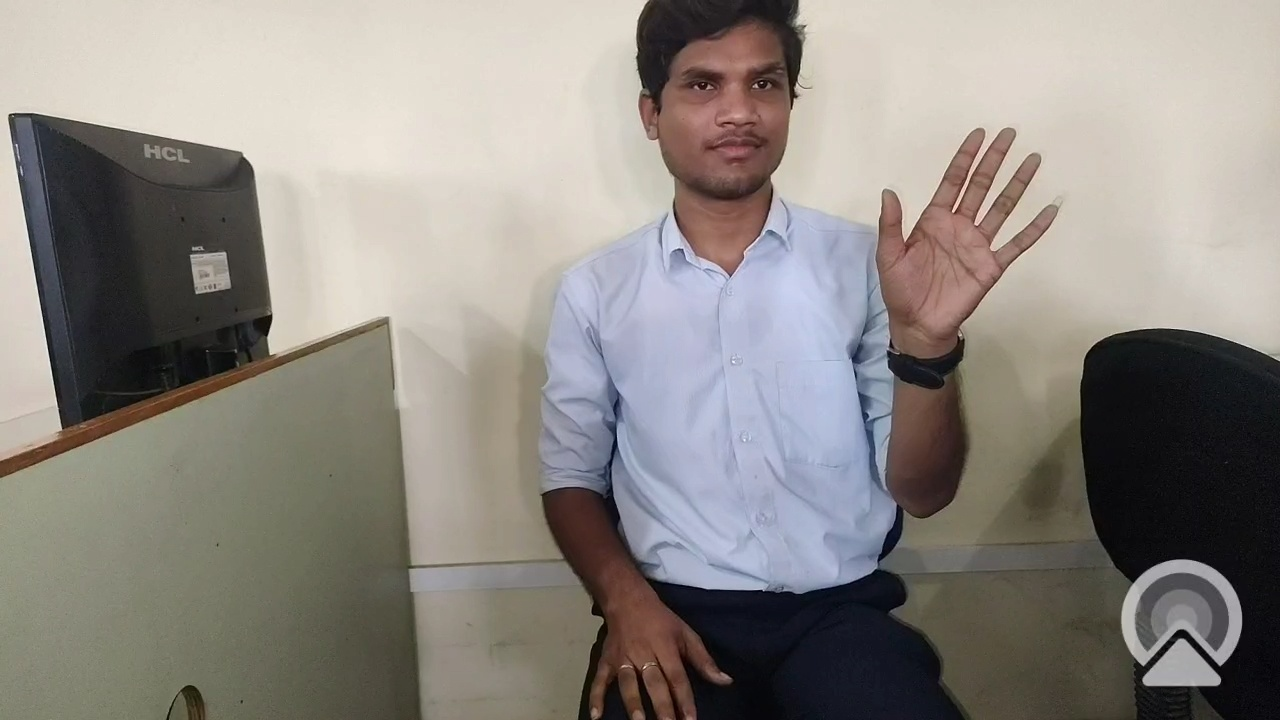Hello: (871, 118, 1076, 386)
